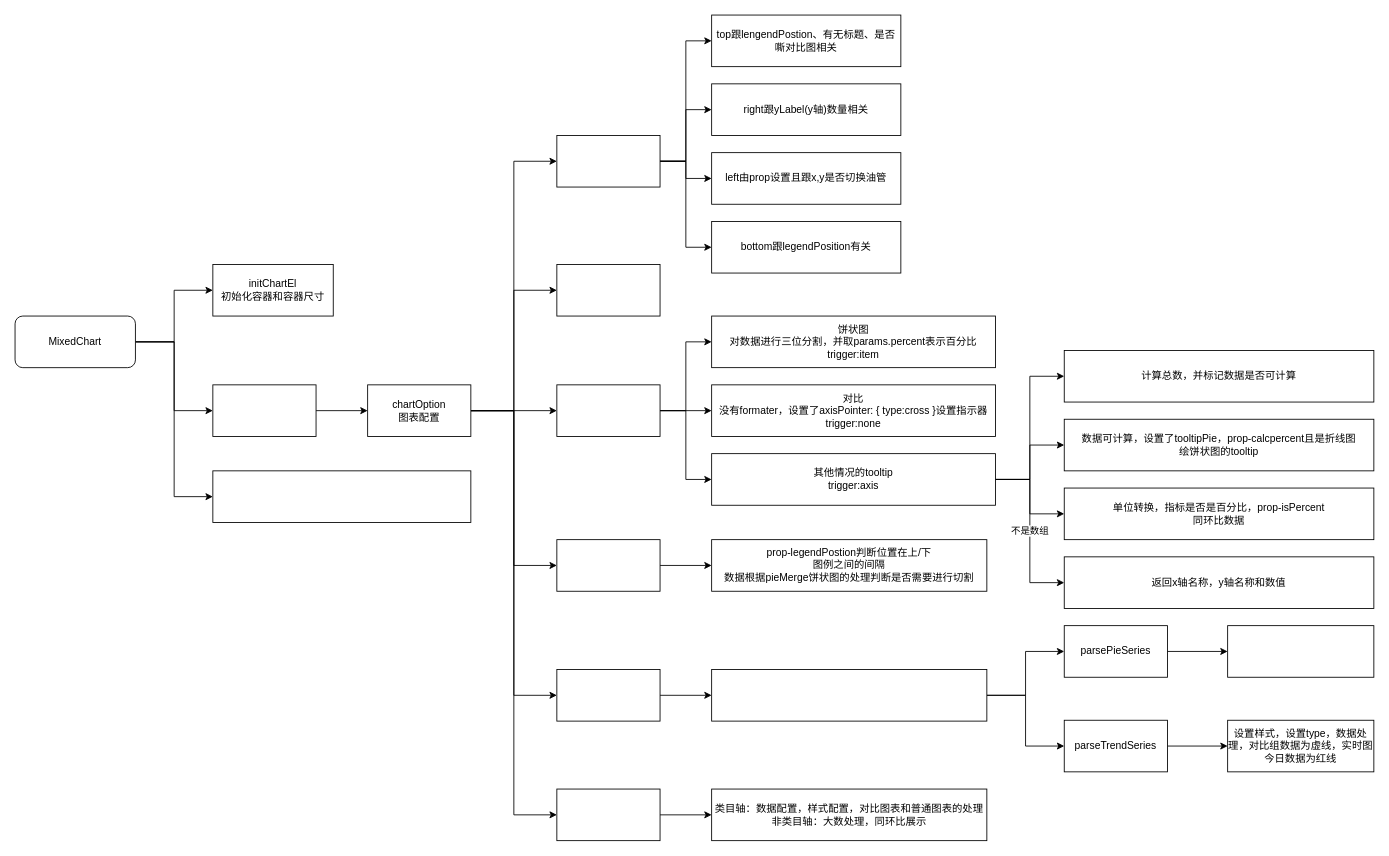
This 1389x856 diagram has some shape labels left out. The shapes that lost their labels are listed below. From the top down, each one's centre as x and y in pixels, then its label:
At (608,161): "grid 图表展示网格的配置".
At (608,290): "optTitle 取最后一个x轴的数据 取prop-label 取title".
At (264,410): "renderChart 渲染图表".
At (608,410): "optTooltip".
At (341,496): "isCompared是否是对比组:xData.length === 2 用vue._uid来标识图表".
At (608,565): "legend 图例".
At (1300,651): "数据处理，按照pieMergeInfo返回的数据分割信息处理数据，合并其他，设置样式".
At (608,695): "series 数据".
At (849,695): "获取图表的数据 饼图和其他图表的处理分开".
At (608,814): "yAxis,xAxis y坐标轴的配置 x坐标轴的配置".
